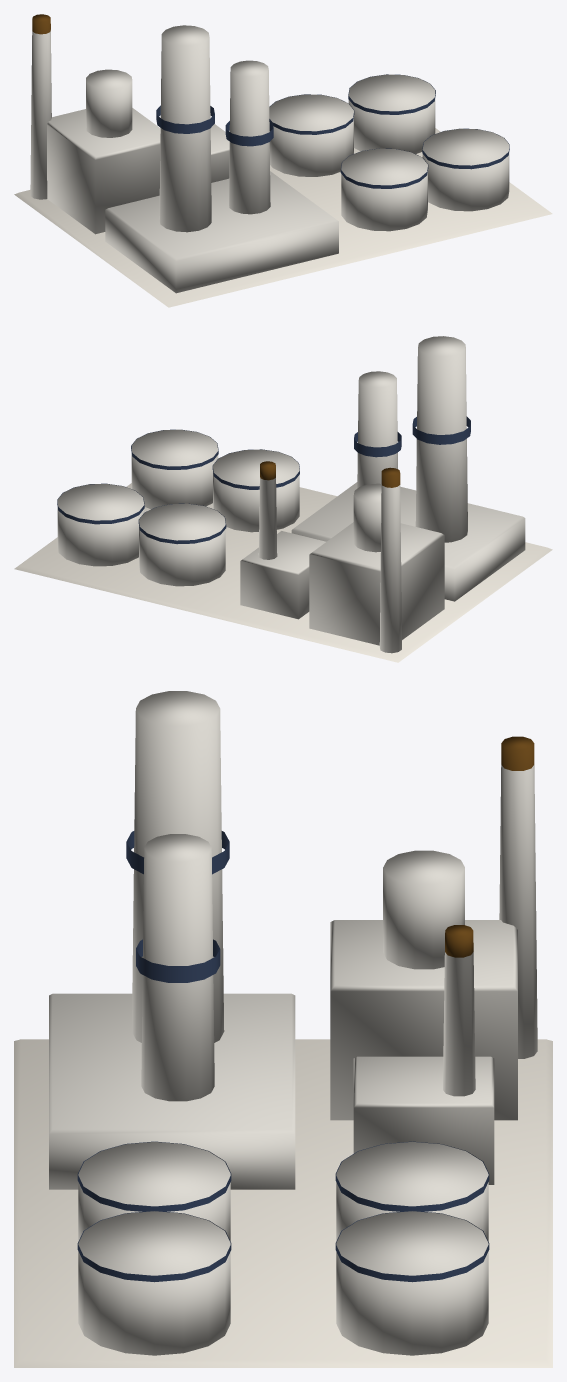
The model's file is refinaria.glb.
3 renders of one model, top to bottom at view 1: azimuth 30°, elevation 25°; view 2: azimuth 150°, elevation 25°; view 3: azimuth 270°, elevation 25°, orthographic. The views are drawn at different scales.
Parts seen in each view (by area): view 1: refinaria; view 2: refinaria; view 3: refinaria.
Part boxes in pixels (x1,y1,x2,y2): refinaria: (14, 14, 552, 307); refinaria: (14, 336, 552, 662); refinaria: (14, 691, 552, 1367).
Size of the model in its own units: 132 by 72.9 by 92.
